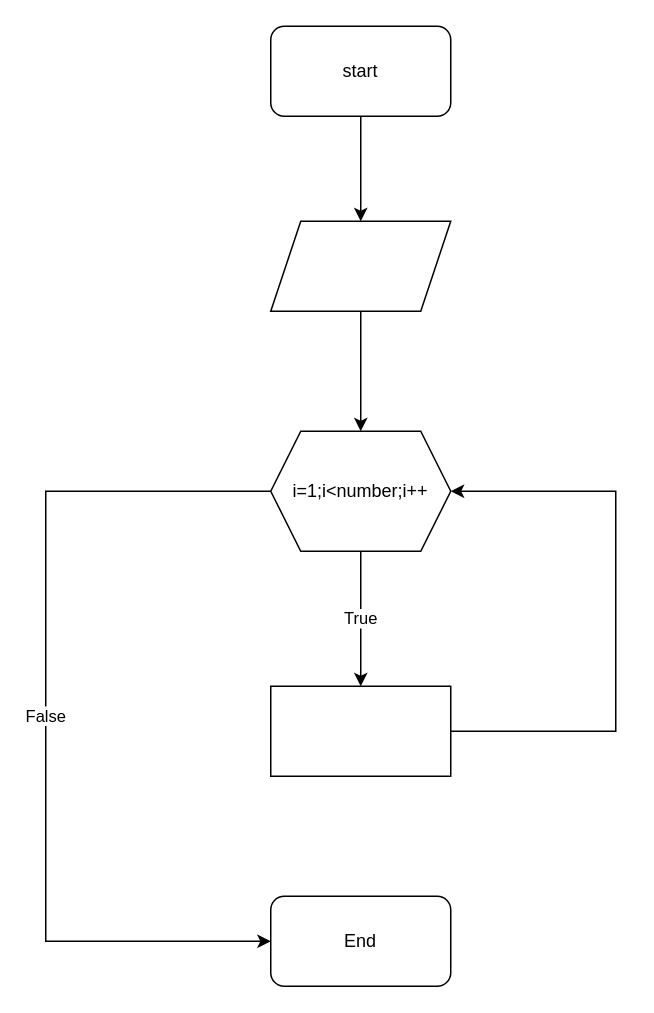
This 654x1013 diagram has some shape labels left out. The shapes that lost their labels are listed below. From the top down, each one's centre as x and y in pixels, then its label:
pixel 360 265: input number long product = 1
pixel 360 730: product = i *product
